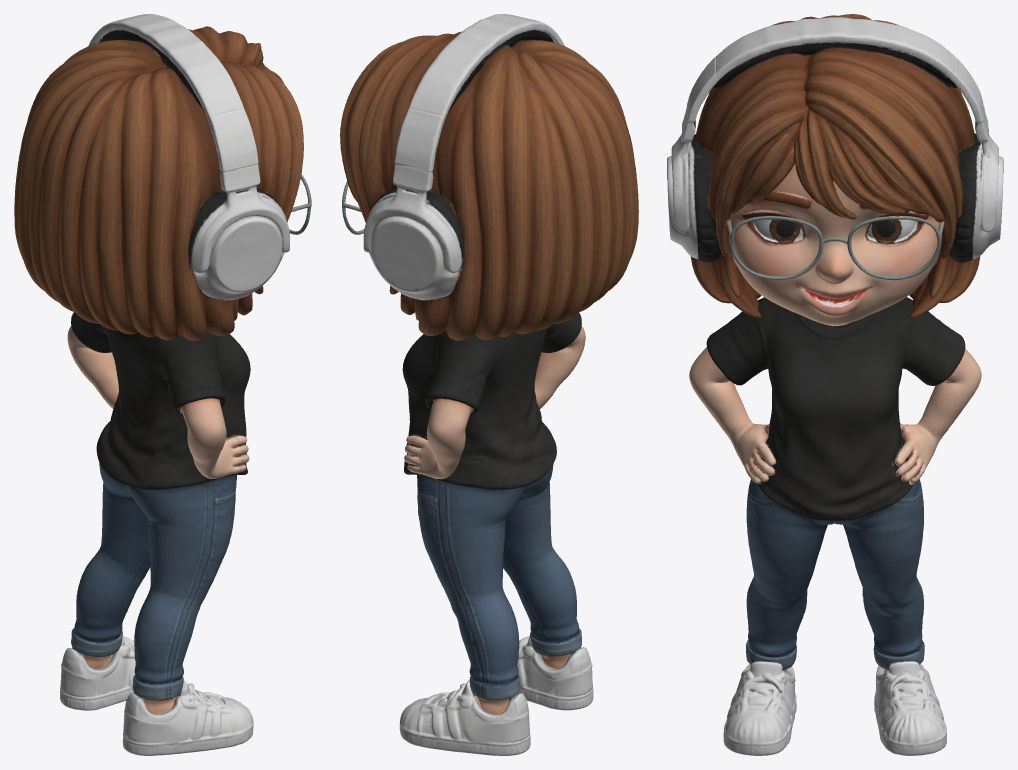
File: female_character.glb
3 views of the same model, side by side, from view 1: azimuth 30°, elevation 25°; view 2: azimuth 150°, elevation 25°; view 3: azimuth 270°, elevation 25° (orthographic). The views are drawn at different scales.
Parts seen in each view (by area): view 1: tripo_node_72cfdbe5-fdb1-467c-9e90-043bf04c8e1d; view 2: tripo_node_72cfdbe5-fdb1-467c-9e90-043bf04c8e1d; view 3: tripo_node_72cfdbe5-fdb1-467c-9e90-043bf04c8e1d.
Boxes of the visible parts, x1,y1,x2,y2 form: tripo_node_72cfdbe5-fdb1-467c-9e90-043bf04c8e1d: (14, 14, 311, 755); tripo_node_72cfdbe5-fdb1-467c-9e90-043bf04c8e1d: (340, 14, 638, 755); tripo_node_72cfdbe5-fdb1-467c-9e90-043bf04c8e1d: (667, 14, 1003, 755).
Bounding box in the file's own units: 0.3781 × 1 × 0.4279.
Materials: 1 (1 with a texture image).
